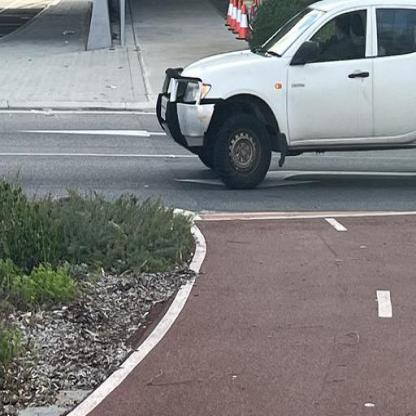Tire: (210, 113, 273, 190)
